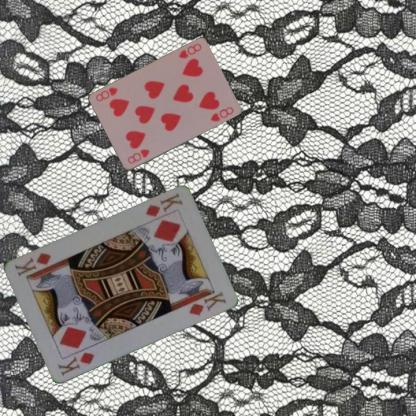8h: (125, 146, 151, 166), (176, 41, 202, 60)
Kd: (142, 190, 184, 218), (55, 350, 96, 377)
